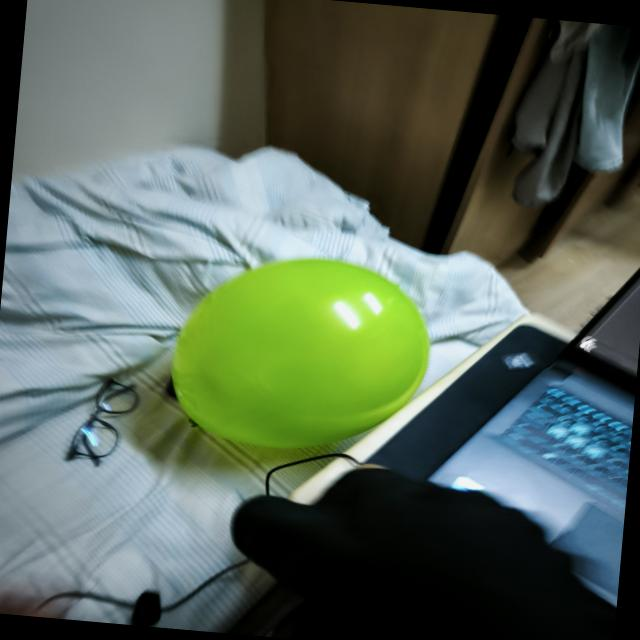balloon: (171, 259, 429, 447)
